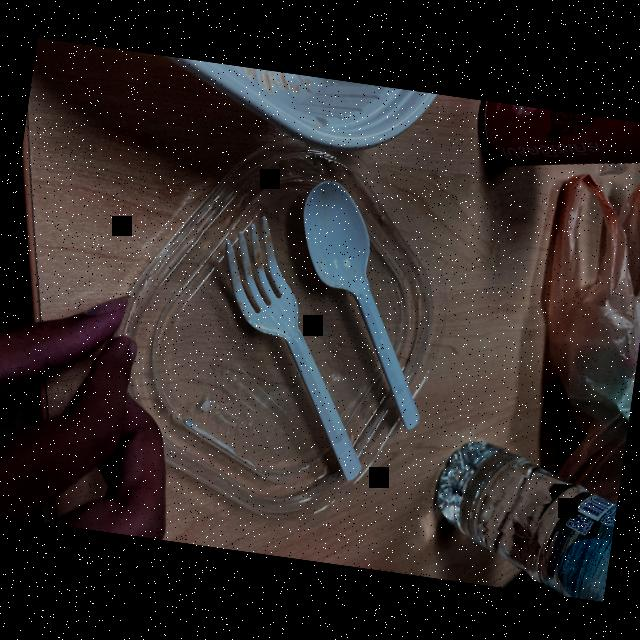plastic_spoon: (180, 208, 400, 500), (266, 177, 468, 450)
